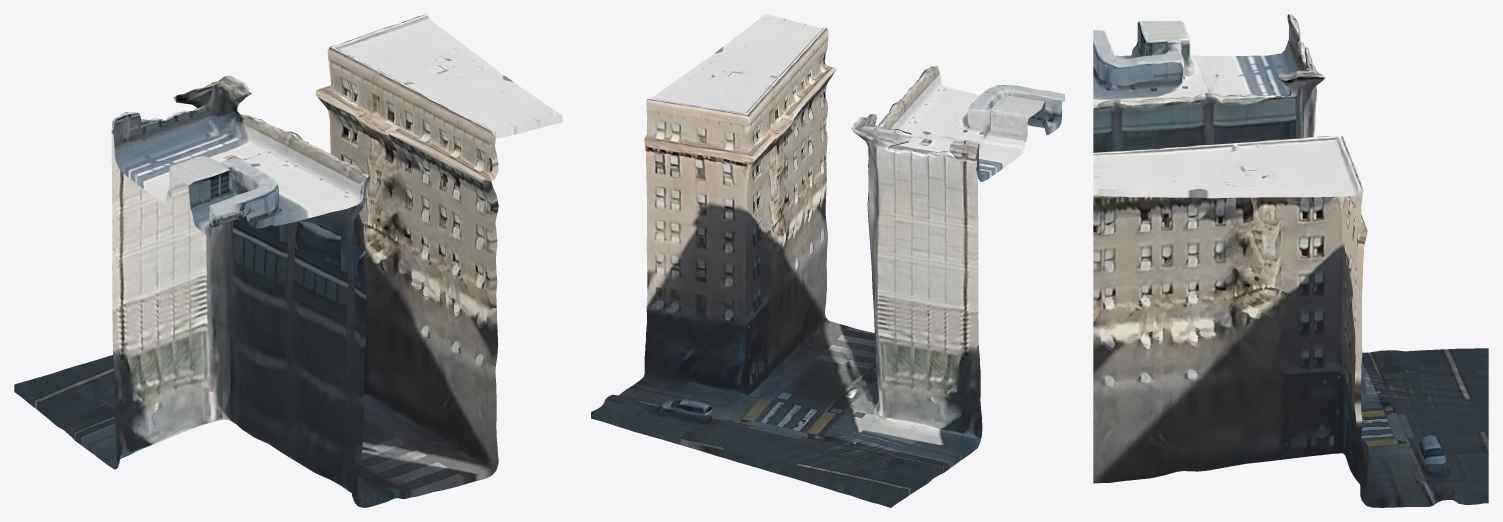
The model's file is z20-167756-405240-h0-yup-uvflip-v3-world.glb.
3 views of the same model, side by side, from view 1: azimuth 30°, elevation 25°; view 2: azimuth 150°, elevation 25°; view 3: azimuth 270°, elevation 25° (orthographic). The views are drawn at different scales.
Bounding box in the file's own units: 30.16 × 29.52 × 30.32.
Materials: 1 (1 with a texture image).
